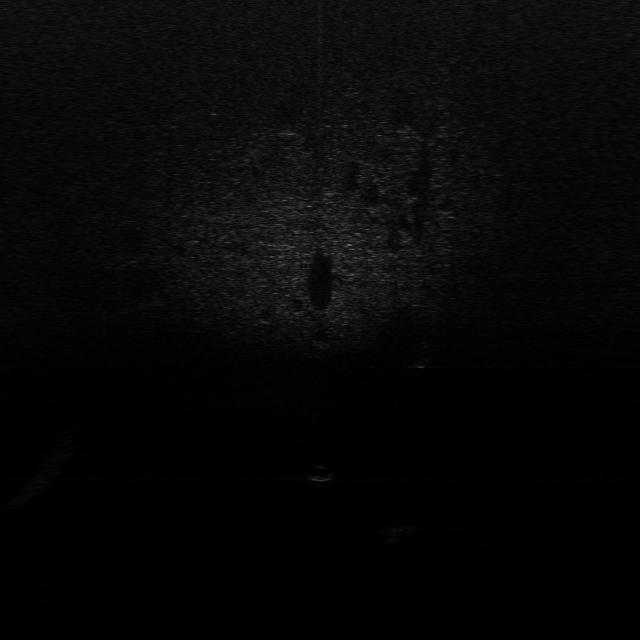ball: (306, 462, 334, 486)
square cage: (376, 524, 423, 546)
tyre: (412, 338, 437, 371)
